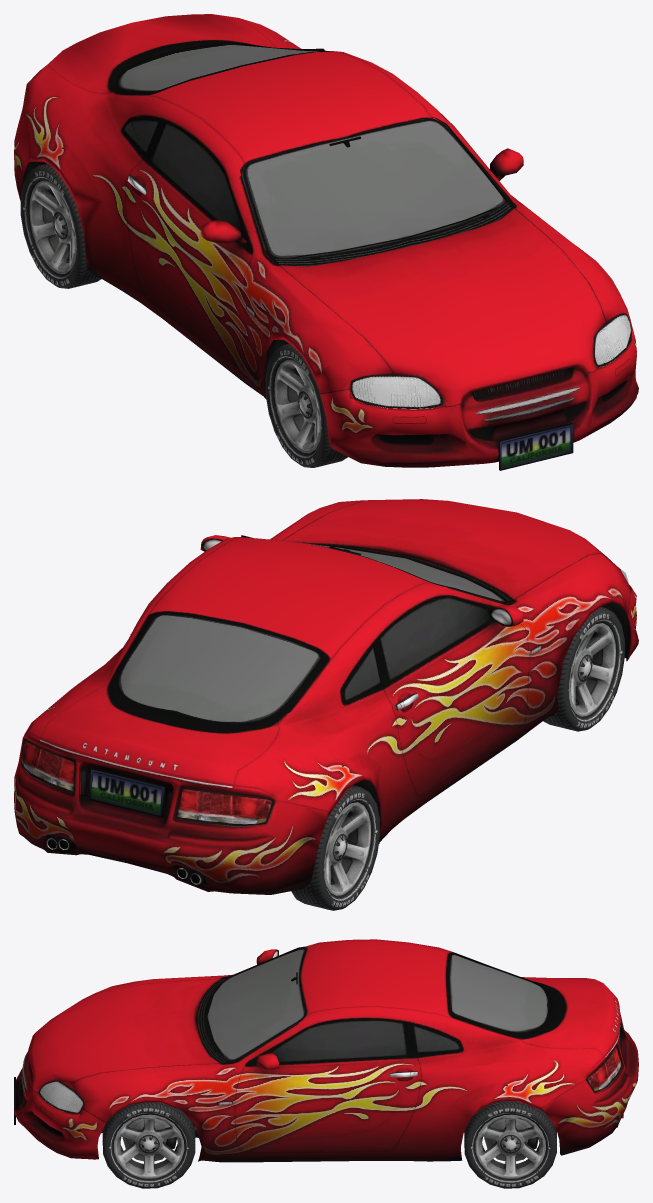
Rendered from car_audi_a4.glb.
The picture shows the model from 3 angles, top to bottom: view 1: azimuth 30°, elevation 25°; view 2: azimuth 150°, elevation 25°; view 3: azimuth 270°, elevation 25°; orthographic projection. The views are drawn at different scales.
Parts seen in each view (by area): view 1: Body, Car_Glass, WheelRR_2, WheelFR_2, Bottom_Interior; view 2: Body, Car_Glass, WheelRR_2, WheelFR_2, Bottom_Interior; view 3: Body, Car_Glass, WheelFL_2, WheelRL_2, Bottom_Interior, DiscBrakeFL, DiscBrakeRL.
Boxes of the visible parts, box(x1,y1,x2,y2) form: Body: box(14, 14, 638, 470); Car_Glass: box(115, 44, 631, 408); WheelRR_2: box(20, 163, 101, 288); WheelFR_2: box(265, 343, 347, 467); Bottom_Interior: box(23, 42, 506, 405); Body: box(14, 499, 638, 894); Car_Glass: box(115, 537, 631, 724); WheelRR_2: box(291, 785, 379, 910); WheelFR_2: box(543, 607, 624, 731); Bottom_Interior: box(115, 535, 629, 814); Body: box(14, 939, 638, 1162); Car_Glass: box(38, 948, 550, 1113); WheelFL_2: box(102, 1102, 195, 1188); WheelRL_2: box(464, 1101, 556, 1188); Bottom_Interior: box(101, 946, 548, 1151); DiscBrakeFL: box(122, 1118, 176, 1161); DiscBrakeRL: box(484, 1118, 538, 1161).
Size of the model in its own units: 2.35 by 1.61 by 5.43.
3 materials, 3 textured.
